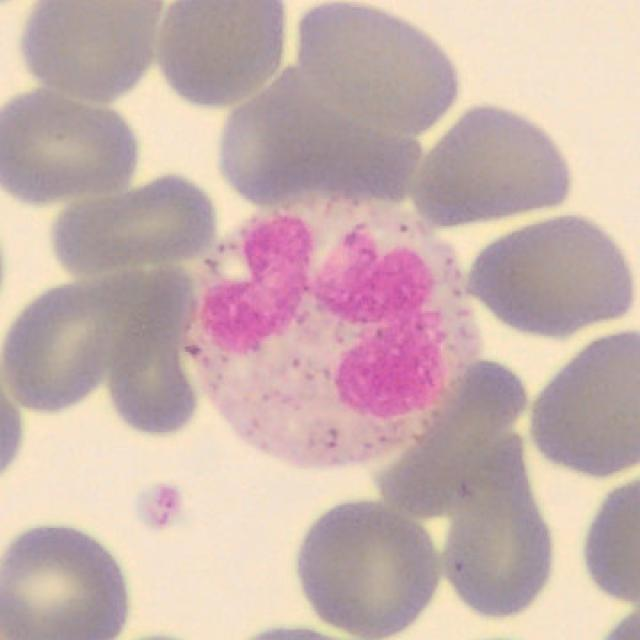Neutrofilo segmentado: (183, 188, 484, 473)
